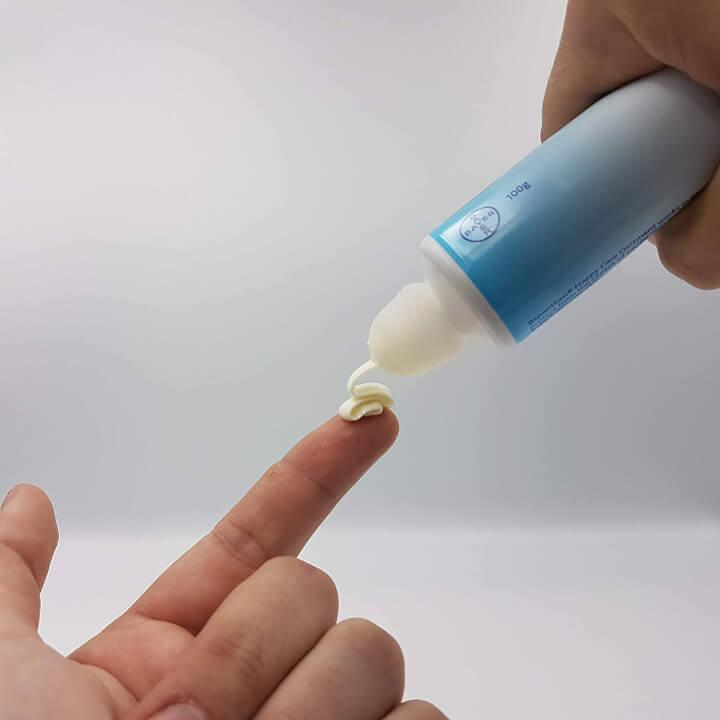toothpaste: (349, 24, 720, 390)
